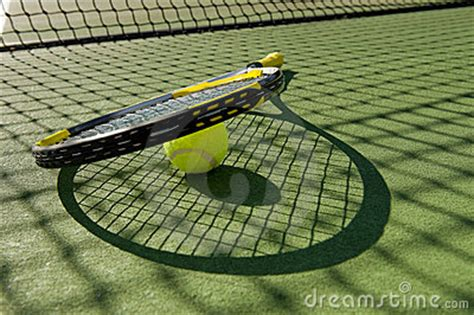tennis_ball: (162, 121, 229, 174)
